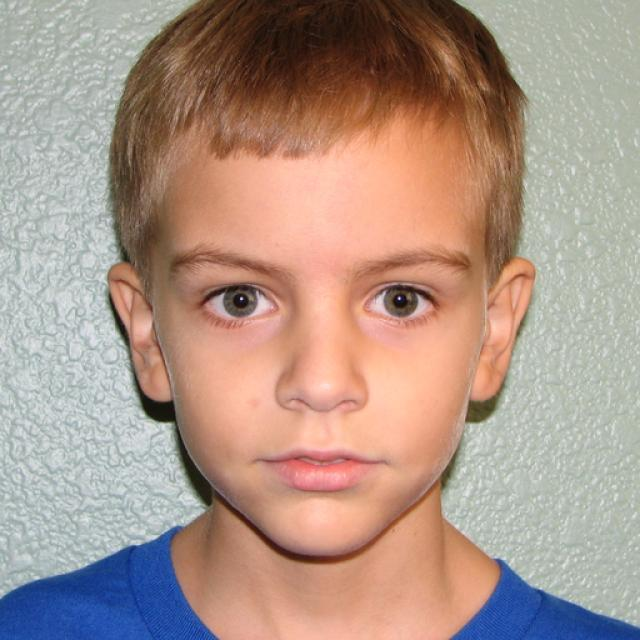neutral: (162, 97, 478, 558)
